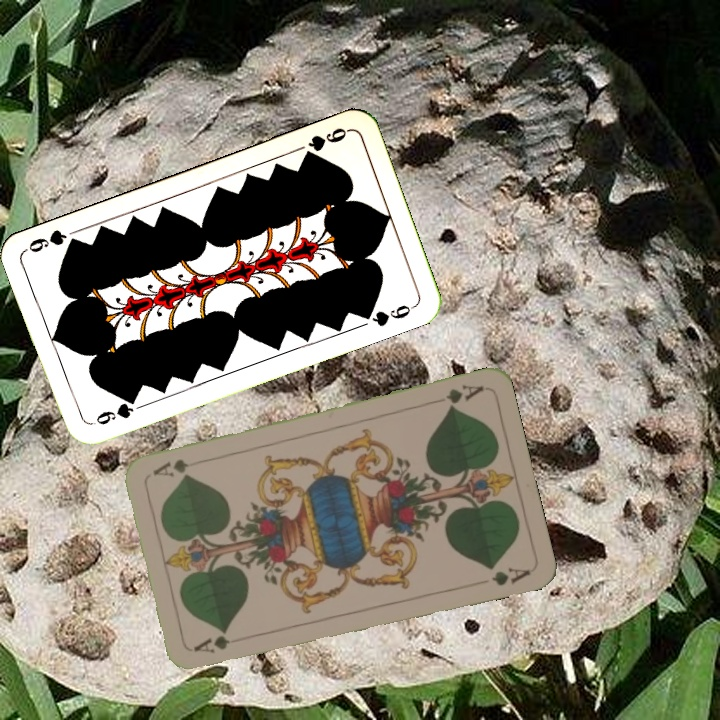G9: (299, 123, 352, 162), (87, 393, 145, 428)
GA: (442, 380, 487, 411), (190, 631, 233, 656)
